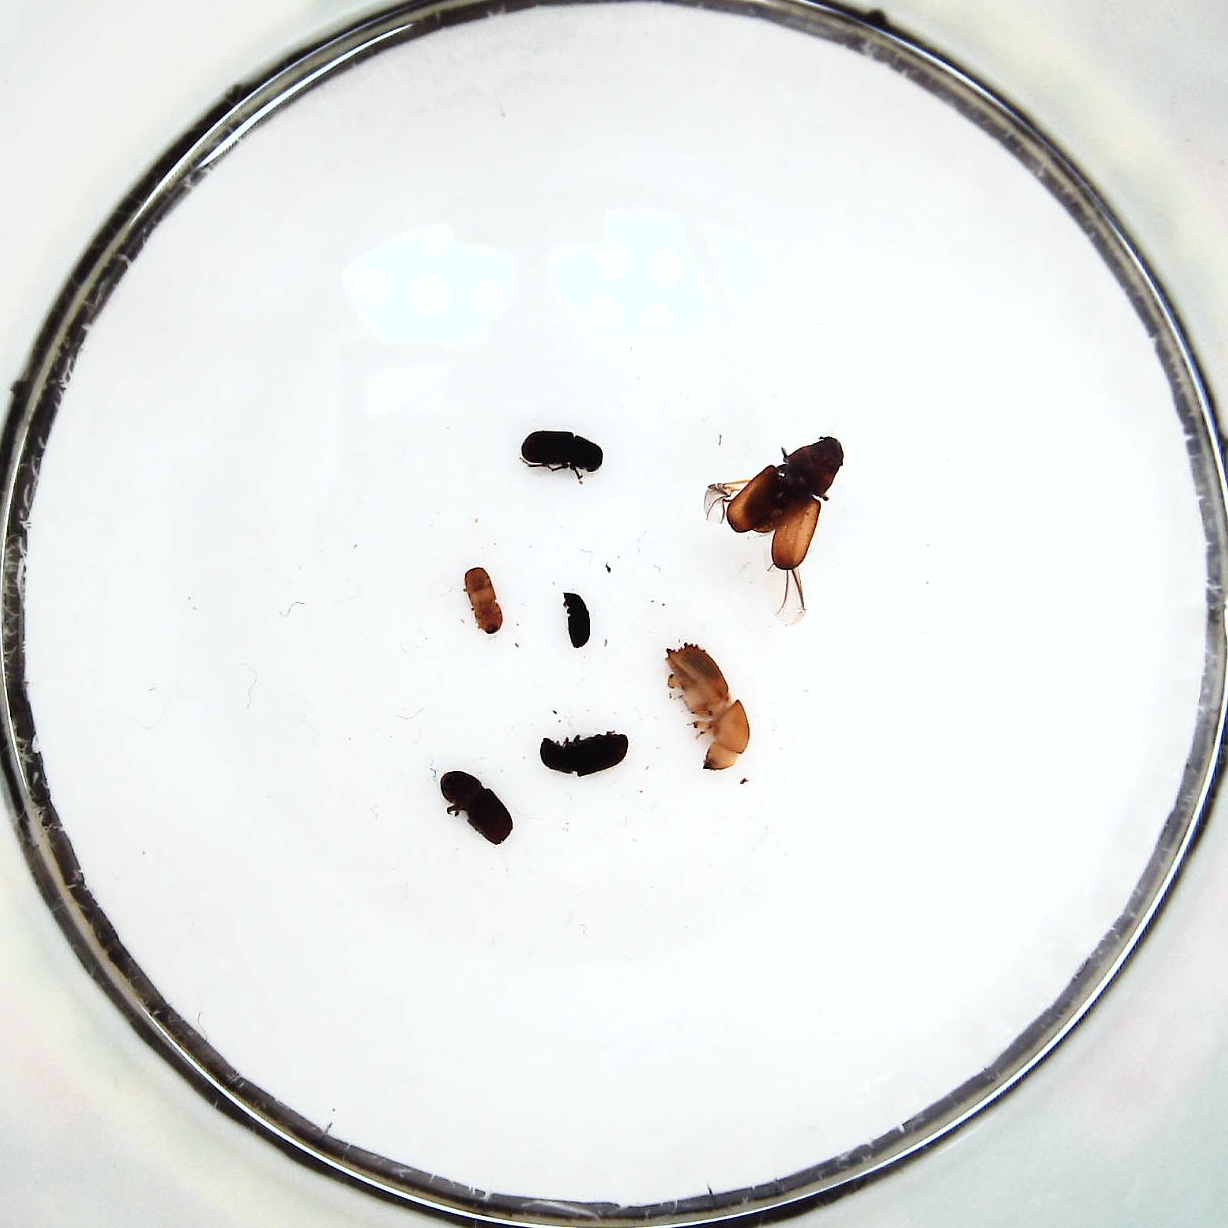Boerner: (662, 639, 753, 773)
Leconte: (723, 435, 839, 571)
Linnaeus: (439, 766, 516, 847)
acuminatus: (459, 561, 506, 636)
armandi: (538, 725, 627, 776), (518, 427, 608, 476)
coleoptera: (559, 589, 595, 648)
